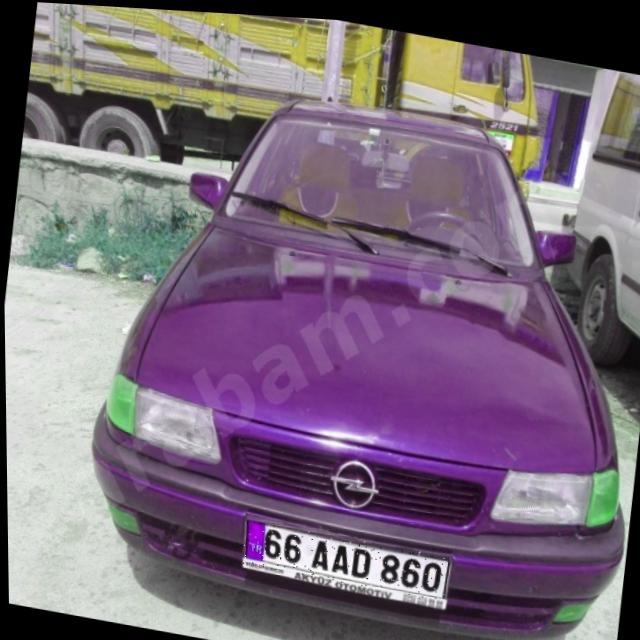license_plate: (240, 516, 449, 596)
